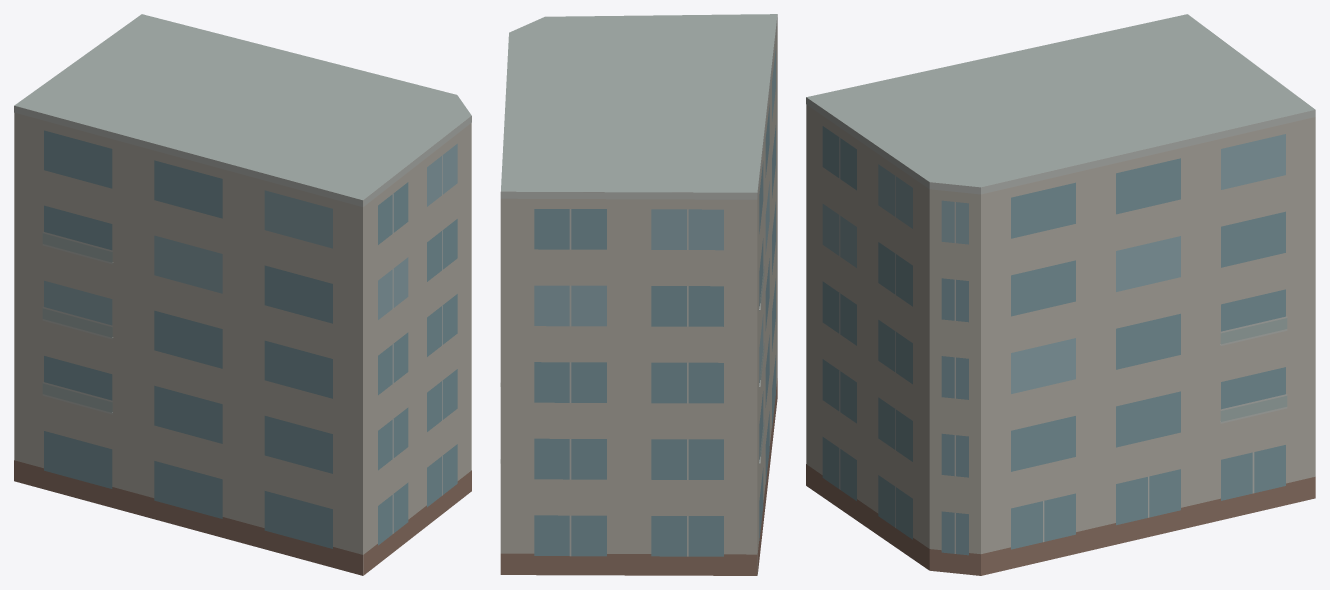
The model's file is survey-upis-32985509.glb.
3 views of the same model, side by side, from view 1: azimuth 30°, elevation 25°; view 2: azimuth 150°, elevation 25°; view 3: azimuth 270°, elevation 25° (orthographic). The views are drawn at different scales.
Visible parts, largest first — view 1: survey-upis-32985509.tmp; view 2: survey-upis-32985509.tmp; view 3: survey-upis-32985509.tmp.
Part boxes in pixels (left/top/right/bottom): survey-upis-32985509.tmp: left=14, top=14, right=471, bottom=575; survey-upis-32985509.tmp: left=500, top=14, right=777, bottom=575; survey-upis-32985509.tmp: left=806, top=14, right=1315, bottom=575.
Size of the model in its own units: 12.74 by 13.3 by 15.82.
